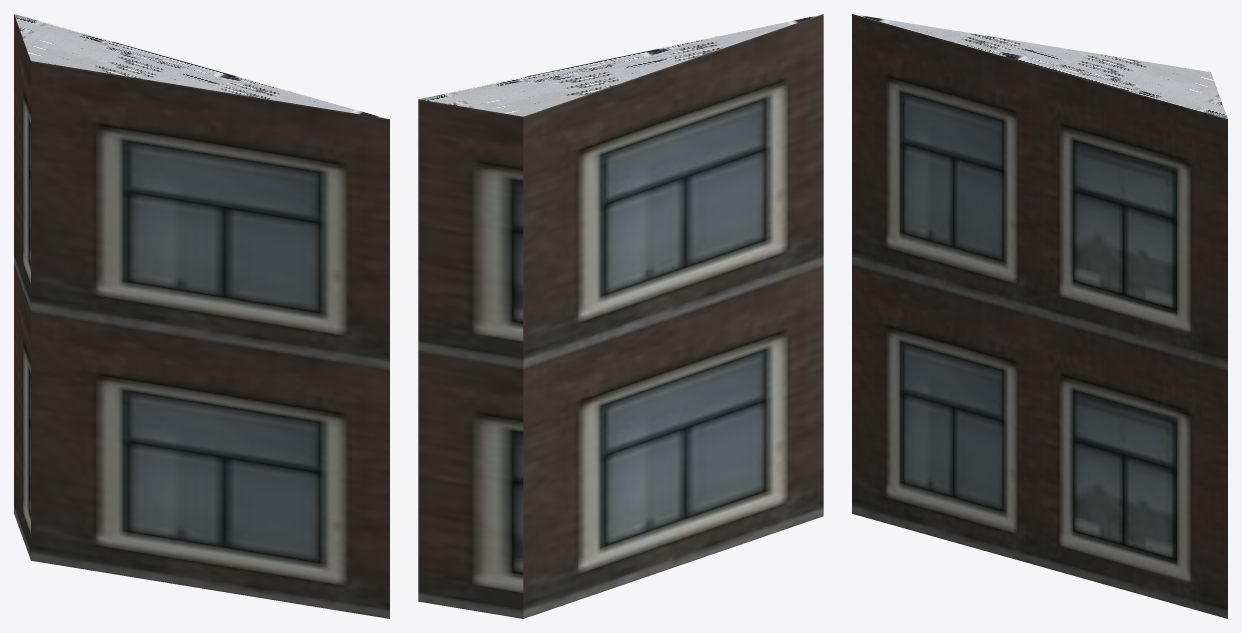
The model's file is ResTex__3218.fbx.
3 renders of one model, left to right at view 1: azimuth 90°, elevation 25°; view 2: azimuth 150°, elevation 25°; view 3: azimuth 270°, elevation 25°, orthographic.
Parts seen in each view (by area): view 1: CityEngineMaterial_16_m, CityEngineMaterial_15_m; view 2: CityEngineMaterial_16_m, CityEngineMaterial_15_m; view 3: CityEngineMaterial_16_m, CityEngineMaterial_15_m.
Boxes of the visible parts, x1,y1,x2,y2 form: CityEngineMaterial_16_m: (14,14,389,618); CityEngineMaterial_15_m: (14,14,387,118); CityEngineMaterial_16_m: (418,14,823,618); CityEngineMaterial_15_m: (419,14,821,116); CityEngineMaterial_16_m: (852,14,1227,618); CityEngineMaterial_15_m: (854,14,1227,118).
Size of the model in its own units: 2.71 by 6 by 4.09.
2 materials, 2 textured.
